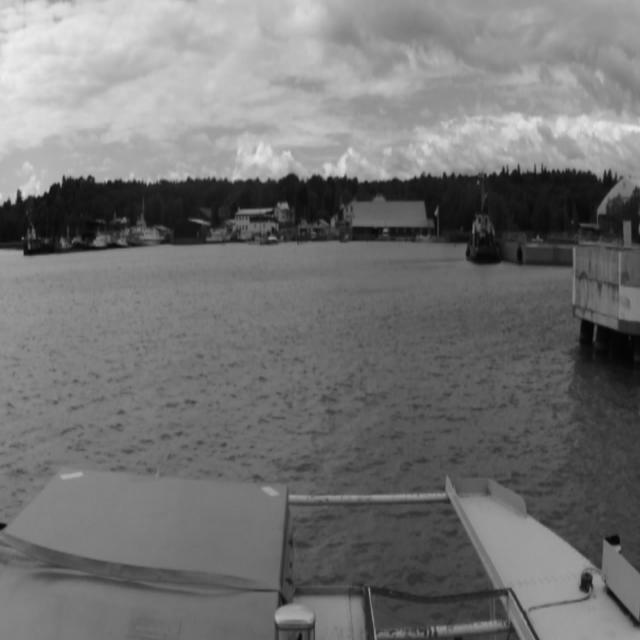ship: (466, 203, 502, 262), (132, 224, 164, 248), (108, 229, 128, 250), (91, 228, 110, 249), (72, 230, 88, 251), (381, 228, 391, 241), (268, 233, 276, 244)
